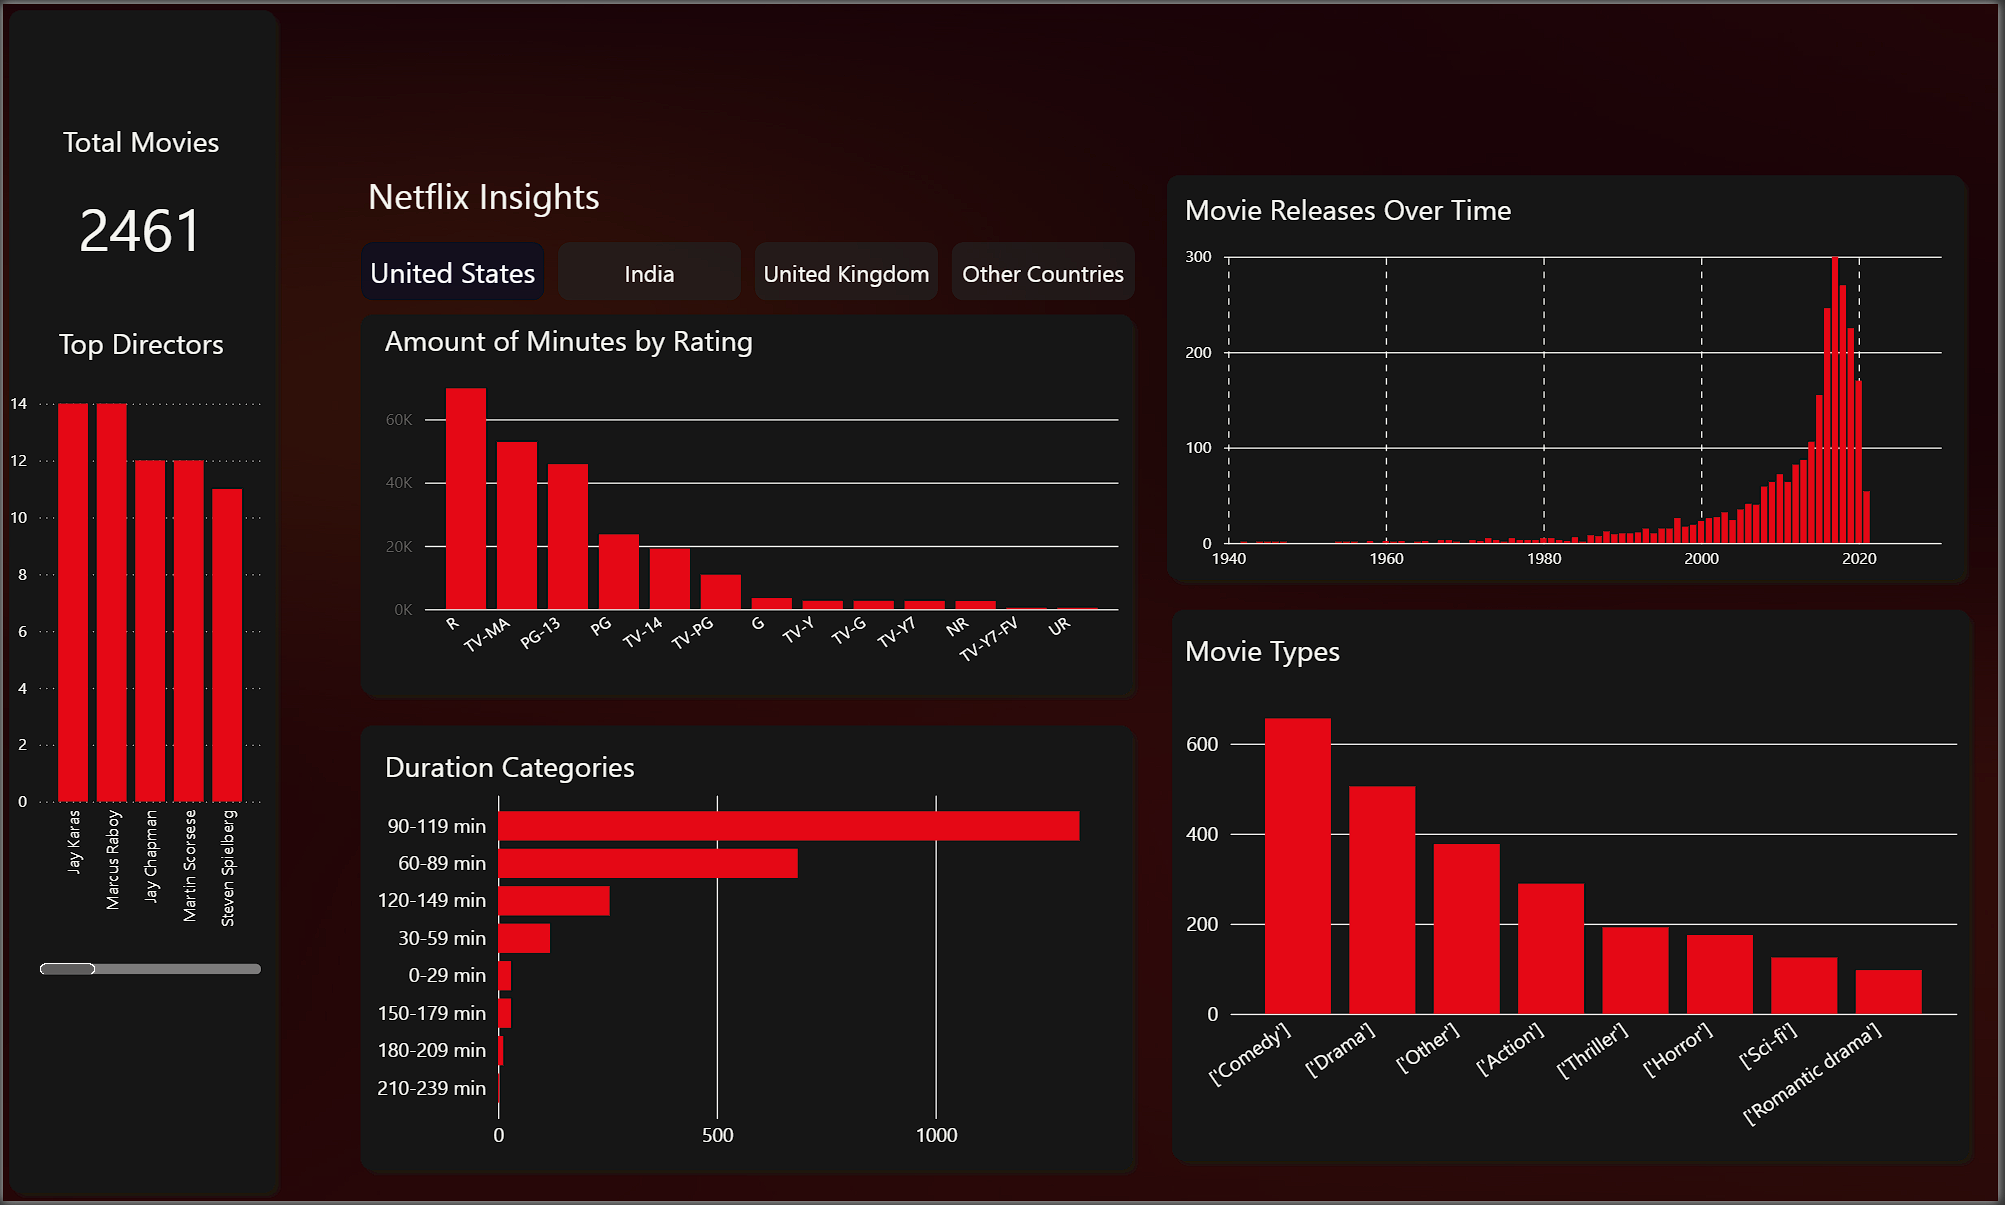

What the dashboard file says about the page in this screenshot:
{"tool":"powerbi","page":{"name":"United States","canvas":[1500,900],"ordinal":0},"visuals":[{"type":"textbox","box":[282,553.3,218,41],"z":0},{"type":"lineStackedColumnComboChart","fields":{"Y":["Sum(netflix_cleaned.count)"],"Category":["netflix_cleaned.release_year"]},"box":[883.3,175.9,590.7,259.3],"z":1000},{"type":"textbox","box":[883.3,134.3,390.7,41.7],"z":2000},{"type":"clusteredColumnChart","fields":{"Category":["netflix_cleaned.rating"],"Y":["Sum(netflix_cleaned.duration_minutes)"]},"box":[282.4,274.1,561.1,243.5],"z":3000},{"type":"textbox","box":[282,232.8,390.2,41],"z":4000},{"type":"textbox","box":[269.1,120,320,56.4],"z":5000},{"type":"pageNavigator","box":[269.4,178.7,584.3,44.4],"z":6000},{"type":"card","fields":{"Values":["Sum(netflix_cleaned.count)"]},"box":[9.3,134.3,189.8,66.7],"z":7000},{"type":"textbox","box":[883.6,466.4,154.5,41.8],"z":9000},{"type":"textbox","box":[9.3,83.3,189.8,50.9],"z":10000},{"type":"clusteredColumnChart","fields":{"Category":["netflix_cleaned.broad_genres"],"Y":["Sum(netflix_cleaned.count)"]},"box":[883.3,508.3,590.7,363],"z":13000},{"type":"barChart","fields":{"Category":["netflix_cleaned.duration_bin"],"Y":["Sum(netflix_cleaned.count)"]},"box":[269.1,582.7,584.5,288.2],"z":14000},{"type":"textbox","box":[9.1,235.5,190,50.9],"z":14001},{"type":"lineStackedColumnComboChart","fields":{"Category":["netflix_cleaned.director"],"Y":["Sum(netflix_cleaned.count)"]},"box":[0,286.4,199.1,448.2],"z":14002}]}

Visuals, with their boxes in screenshot pixels (x1, y1, x2, y2), scaled from the page's 1500x900 canvas onto the 2005x1205 screenshot:
textbox: <box>377,741,668,796</box>
lineStackedColumnComboChart - Sum(netflix_cleaned.count) x netflix_cleaned.release_year: <box>1181,236,1970,583</box>
textbox: <box>1181,180,1703,236</box>
clusteredColumnChart - netflix_cleaned.rating x Sum(netflix_cleaned.duration_minutes): <box>377,367,1127,693</box>
textbox: <box>377,312,899,367</box>
textbox: <box>360,161,787,236</box>
pageNavigator: <box>360,239,1141,299</box>
card - Sum(netflix_cleaned.count): <box>12,180,266,269</box>
textbox: <box>1181,624,1388,680</box>
textbox: <box>12,112,266,180</box>
clusteredColumnChart - netflix_cleaned.broad_genres x Sum(netflix_cleaned.count): <box>1181,681,1970,1167</box>
barChart - netflix_cleaned.duration_bin x Sum(netflix_cleaned.count): <box>360,780,1141,1166</box>
textbox: <box>12,315,266,383</box>
lineStackedColumnComboChart - netflix_cleaned.director x Sum(netflix_cleaned.count): <box>0,383,266,984</box>
